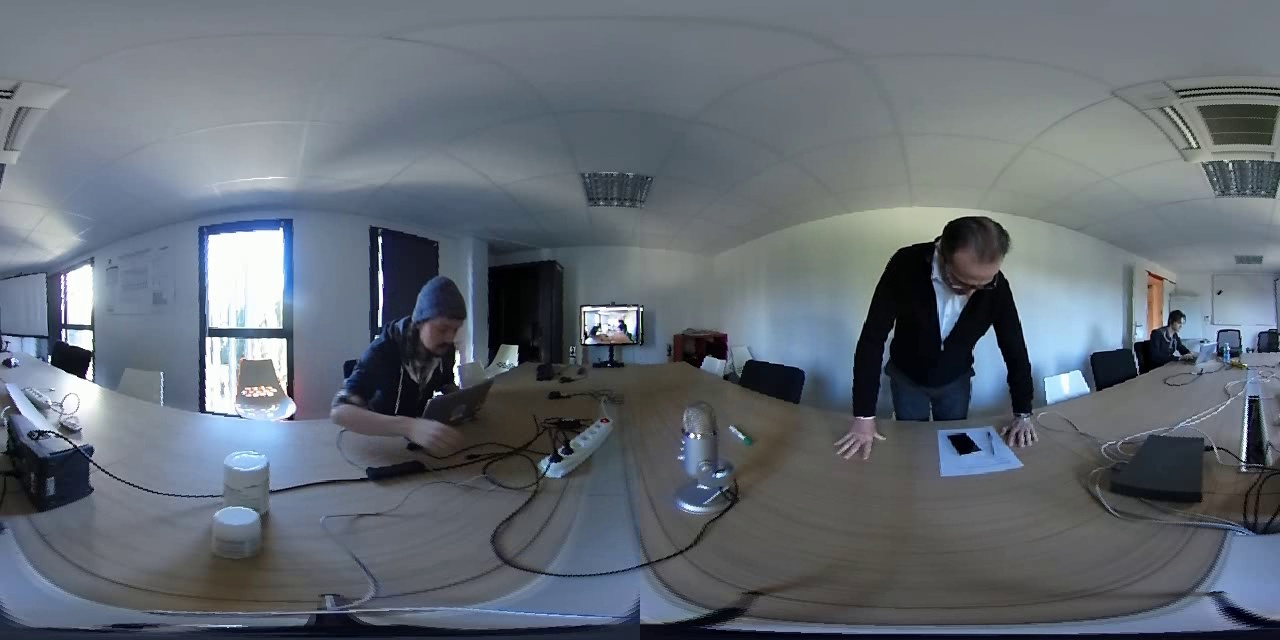person: (868, 206, 1035, 418), (361, 273, 485, 401), (1144, 294, 1195, 356)
